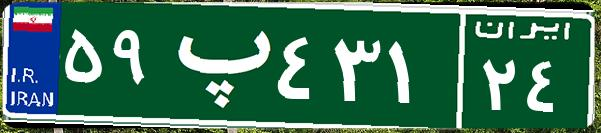1: (385, 28, 445, 110)
2: (475, 38, 525, 113)
3: (330, 28, 385, 110)
4: (273, 28, 330, 110), (525, 38, 570, 115)
5: (57, 26, 110, 107)
9: (110, 28, 158, 105)
پ: (158, 15, 273, 115)
